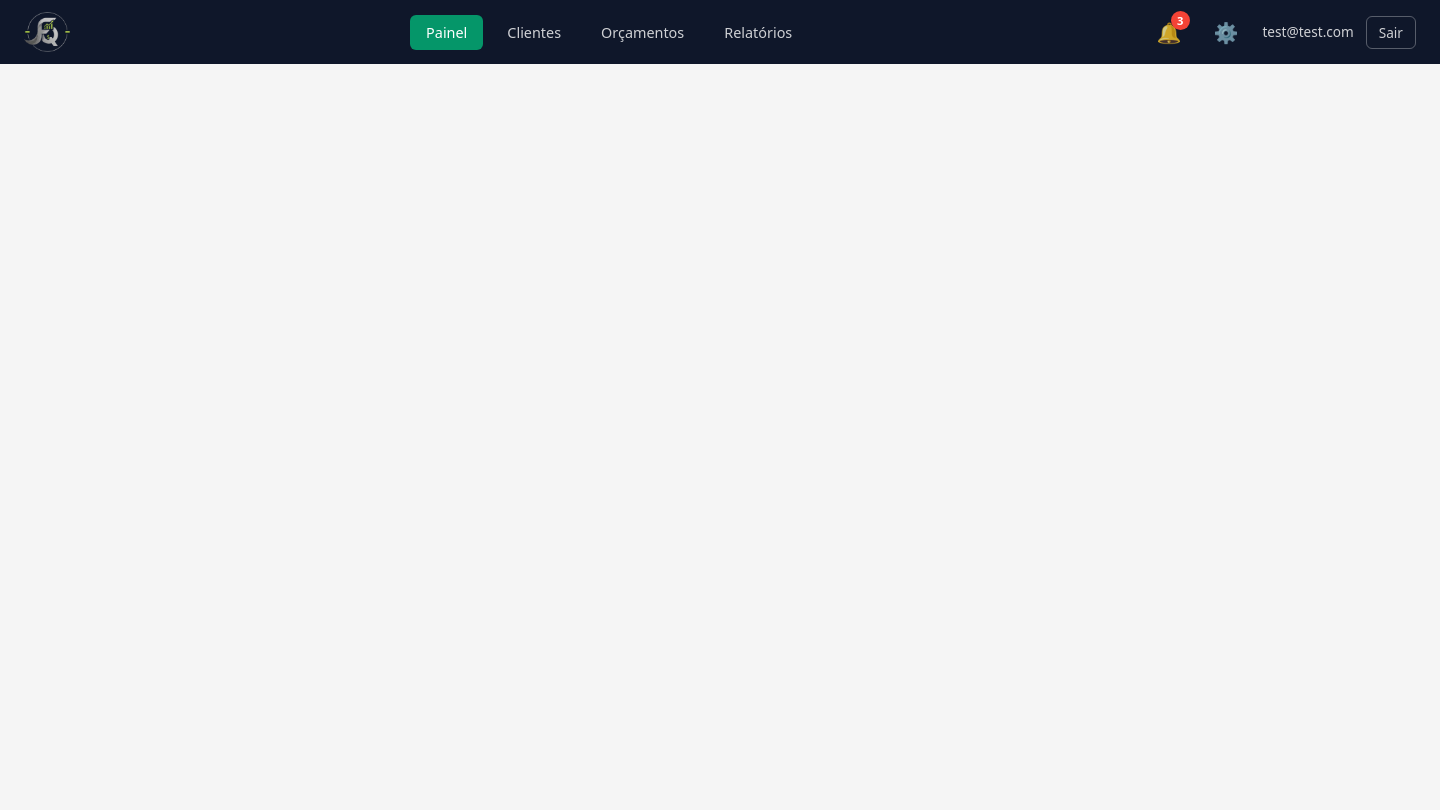
Test case: AdminLayout › deve mostrar modal de logout ao clicar em Sair
Step 1. Click the button "Sair" → (1391, 32), box [1366,16,1416,48]
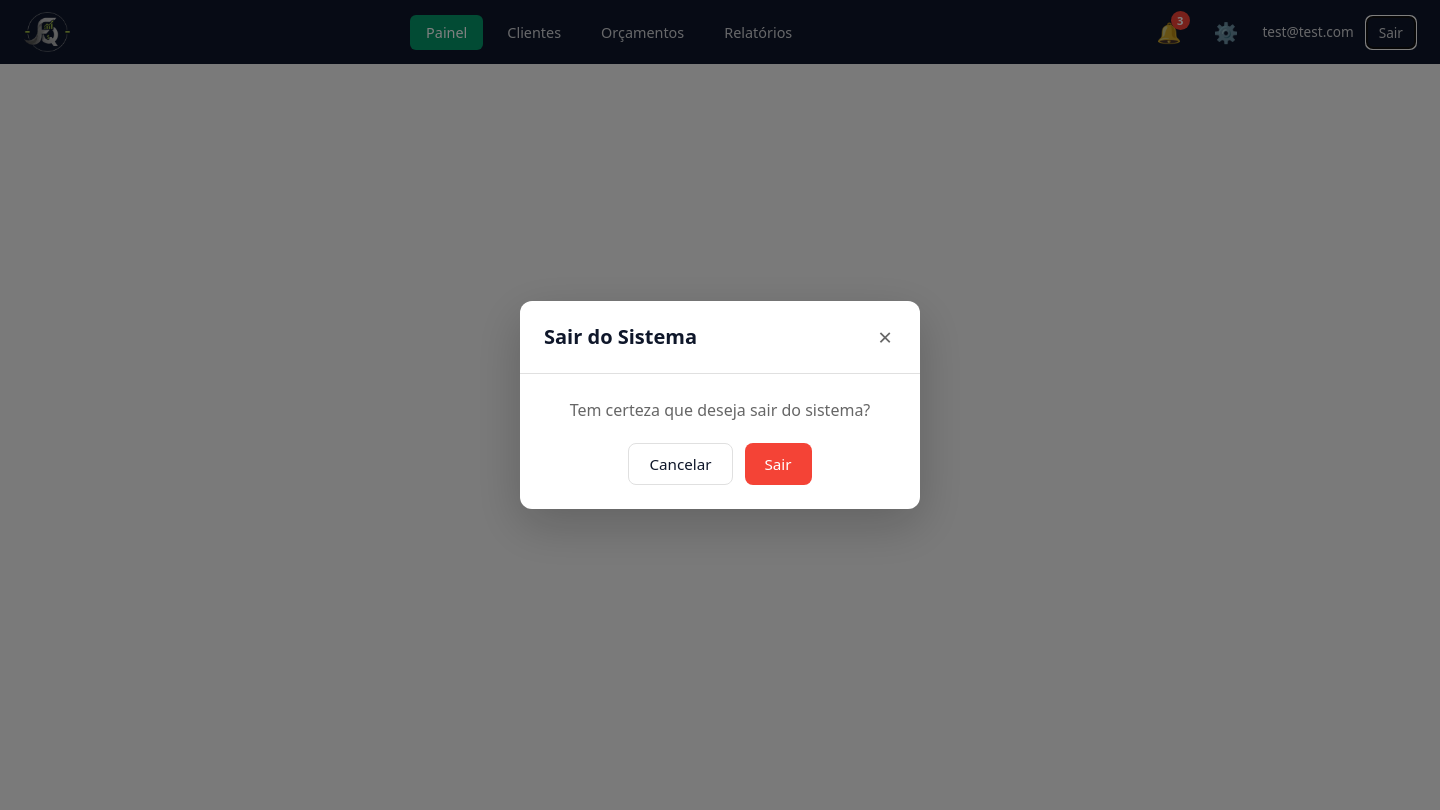
Check: the heading "Sair do Sistema" is shown, box [544,321,697,353]
Check: the text "Tem certeza que deseja sair do sistema?" is shown, box [544,398,896,423]
